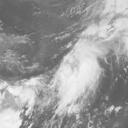cyclone: (45, 48, 106, 110)
